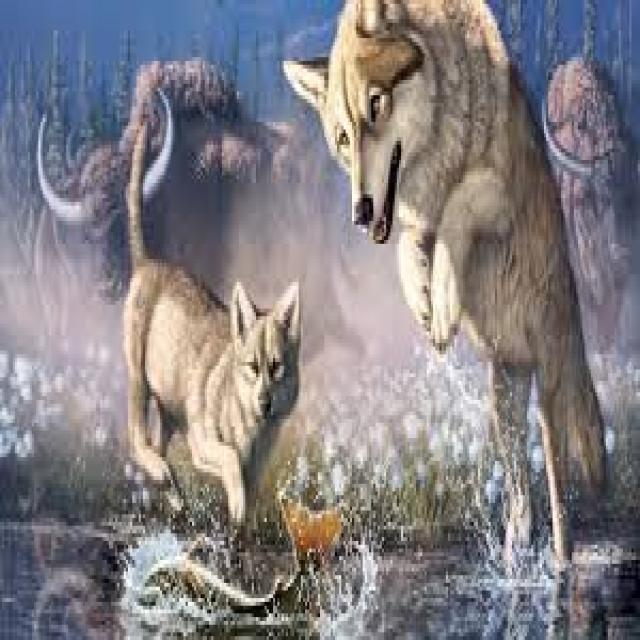Wolf: (280, 0, 614, 558), (118, 110, 300, 528)
